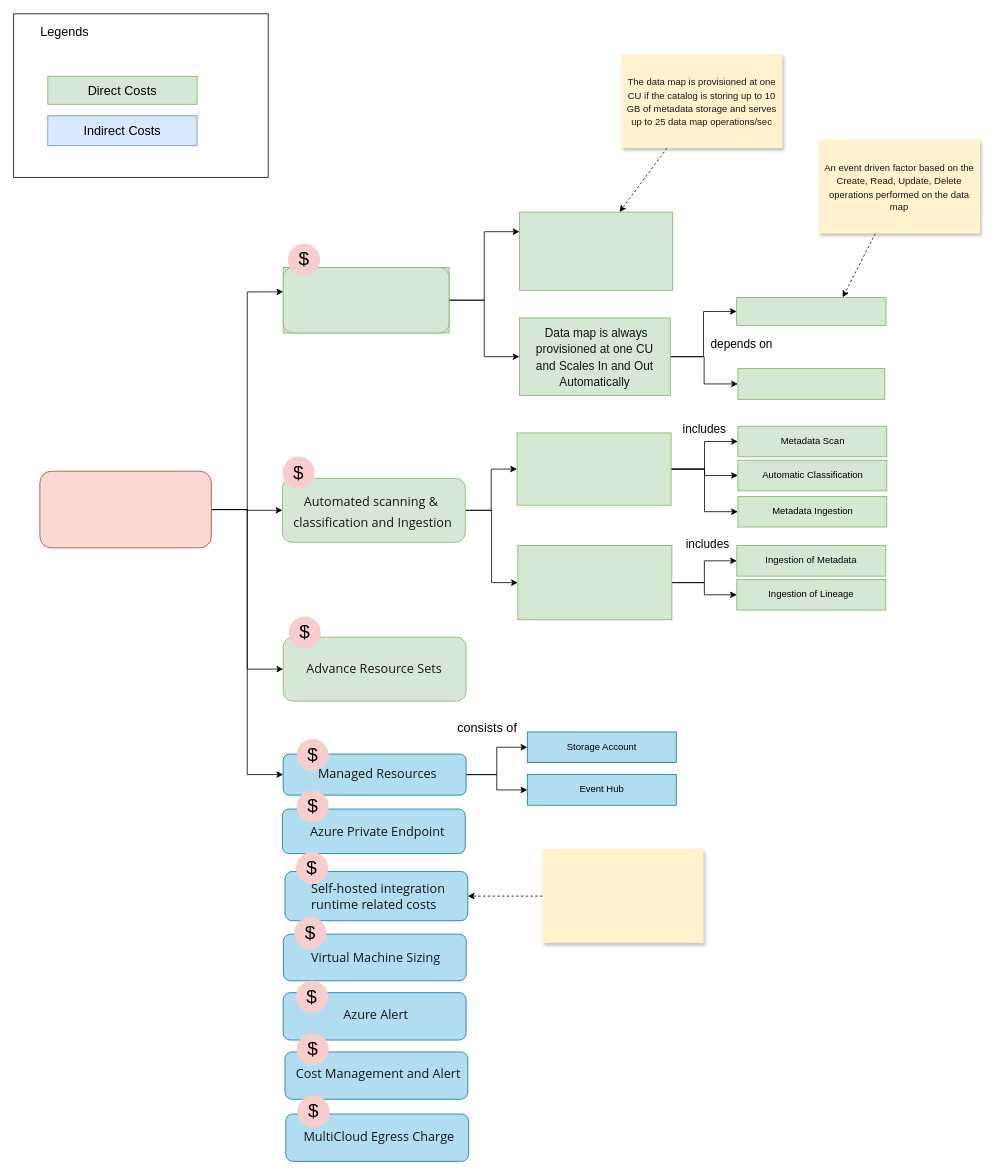
Image size: 999x1176. Some labels were removed from this diagram. The centre of each missing label's shape, as x and y in pixels:
"Automated Ingestion using Azure Data Factory & Azure Synapse" goes at (x=594, y=582).
"Automating Scanning Using Connectors" goes at (x=593, y=468).
"Azure Purview Cost Pillars" goes at (x=125, y=509).
"Charged in terms of Capacity Unit (CU)" goes at (x=596, y=250).
"Elastic data map" goes at (x=365, y=300).
"Metadata Storage" goes at (x=811, y=383).
"Only for On Premise Data Sources" goes at (x=623, y=897).
"Operation Throughput" goes at (x=811, y=311).
